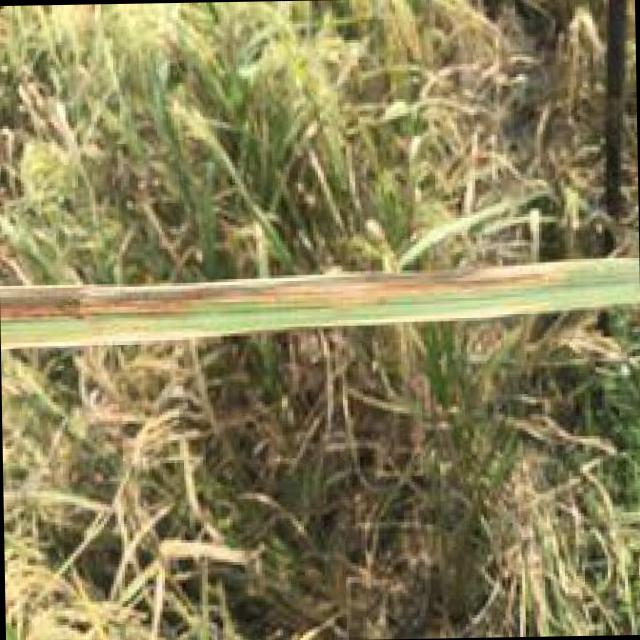Rice_Bacterial_Blight: (19, 253, 580, 331)
